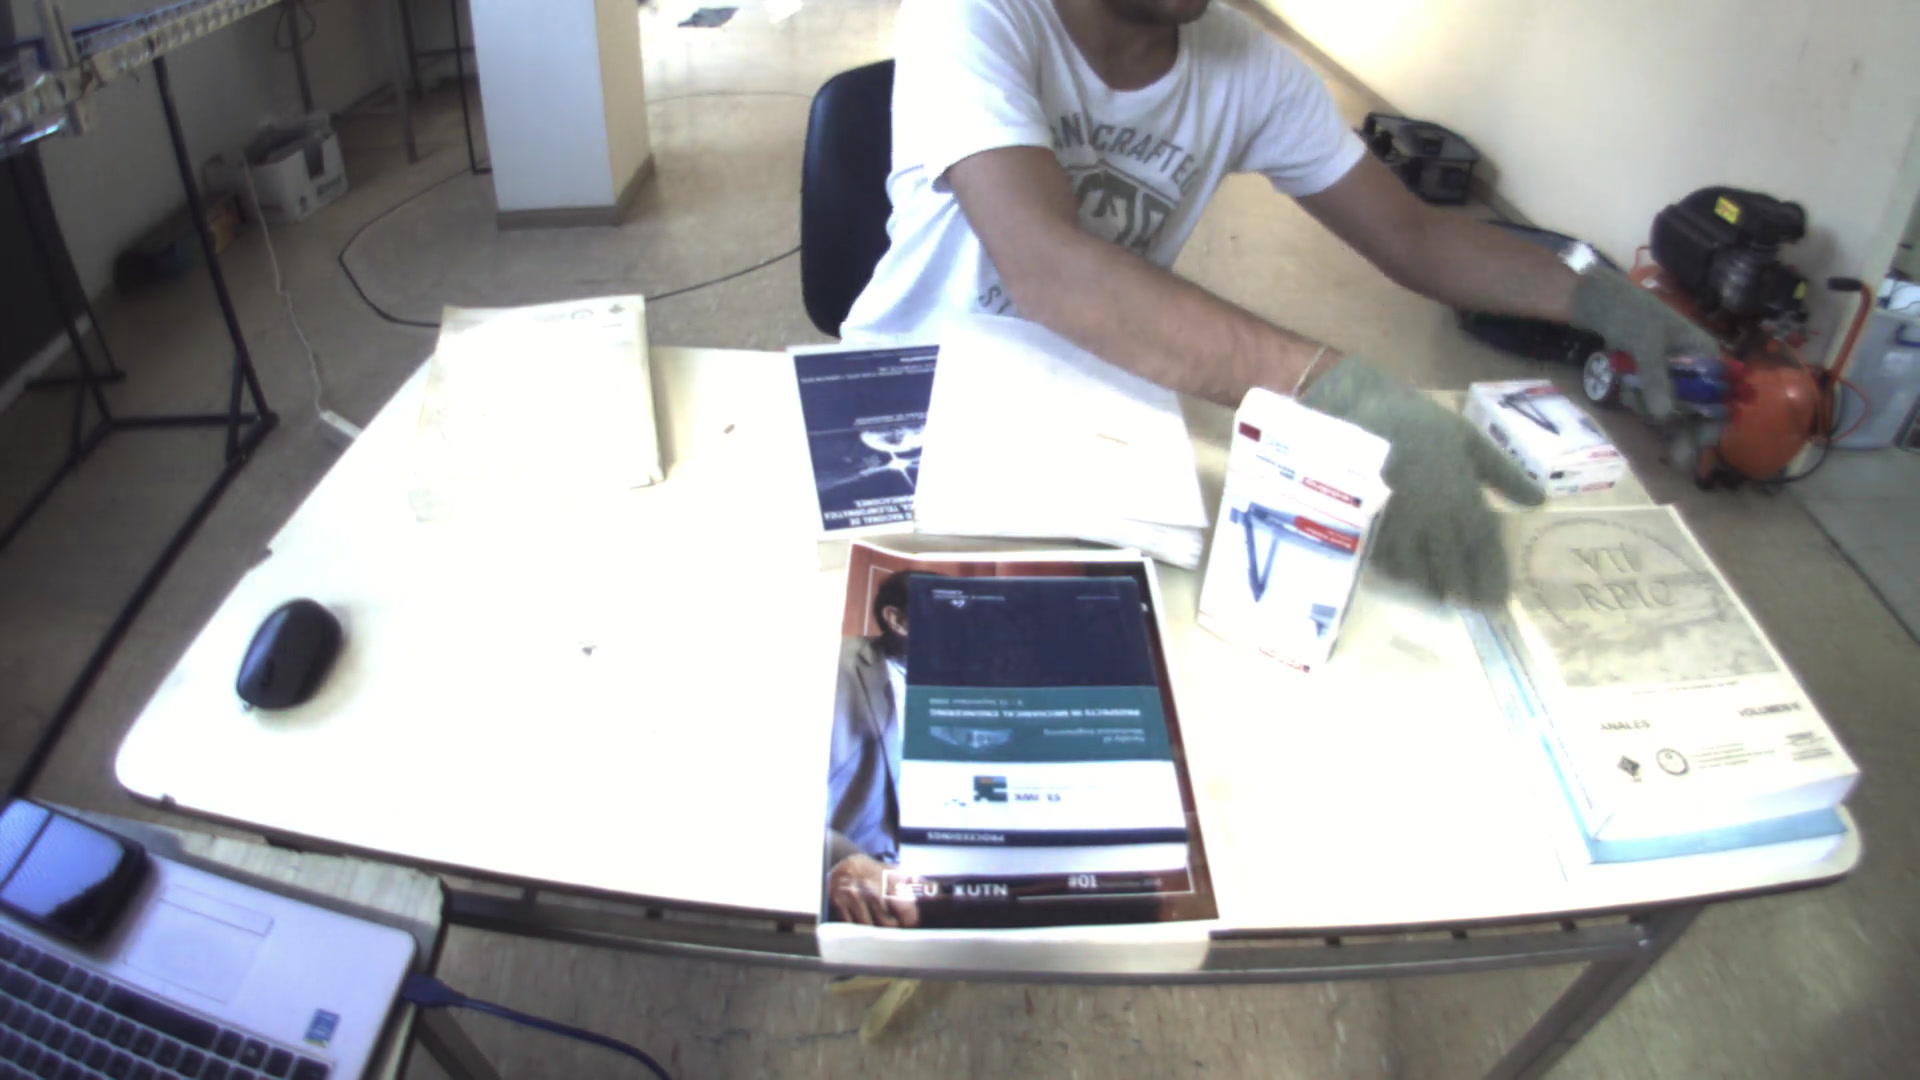hand: (1296, 349, 1548, 608), (1567, 261, 1735, 476)
